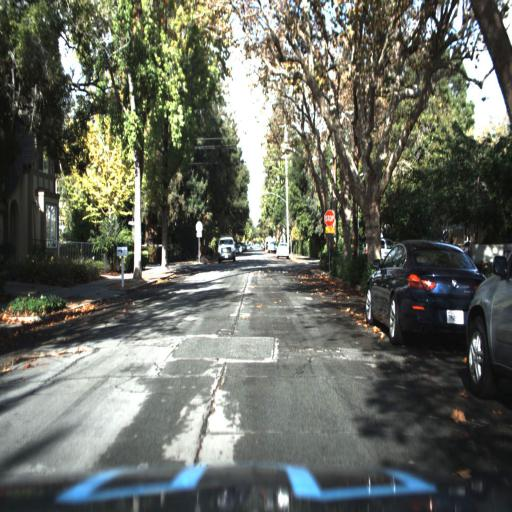car: (364, 238, 488, 348), (467, 245, 512, 407), (214, 232, 238, 265), (274, 240, 293, 262), (271, 241, 288, 263)
